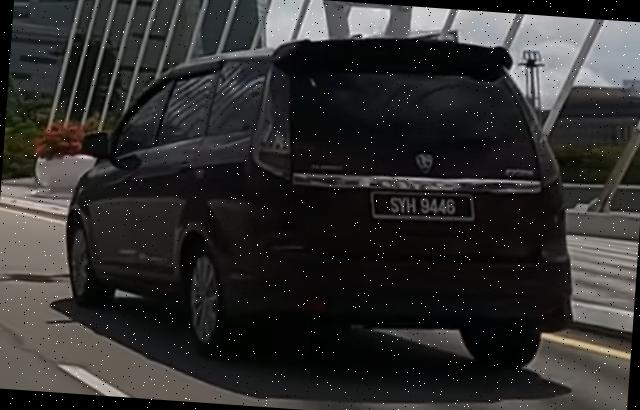License_Plate: (367, 186, 477, 226)
car: (56, 12, 594, 379)
